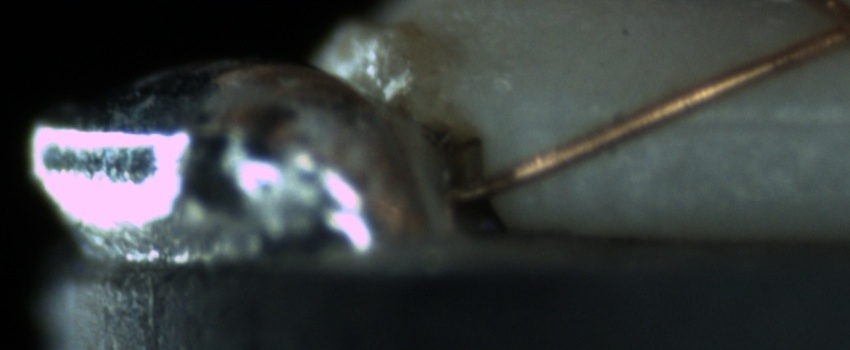DL: (554, 90, 850, 154)
